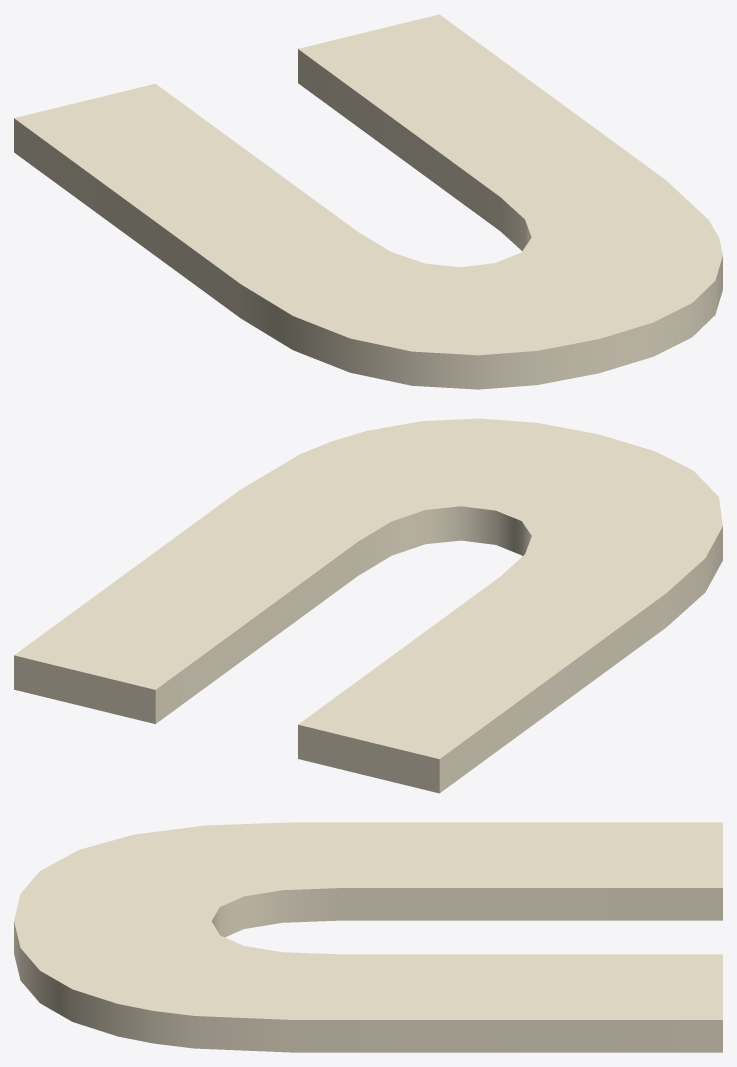
File: original-52.obj
3 views of the same model, one above another, from view 1: azimuth 30°, elevation 25°; view 2: azimuth 150°, elevation 25°; view 3: azimuth 270°, elevation 25° (orthographic). The views are drawn at different scales.
Parts seen in each view (by area): view 1: mesh139/mesh139-geometry#mesh139-geometry; view 2: mesh139/mesh139-geometry#mesh139-geometry; view 3: mesh139/mesh139-geometry#mesh139-geometry.
Part boxes in pixels (x1,y1,x2,y2): mesh139/mesh139-geometry#mesh139-geometry: [14, 14, 722, 389]; mesh139/mesh139-geometry#mesh139-geometry: [14, 418, 722, 793]; mesh139/mesh139-geometry#mesh139-geometry: [14, 822, 722, 1052].
Size of the model in its own units: 0.0161 by 0.00124 by 0.0243.
